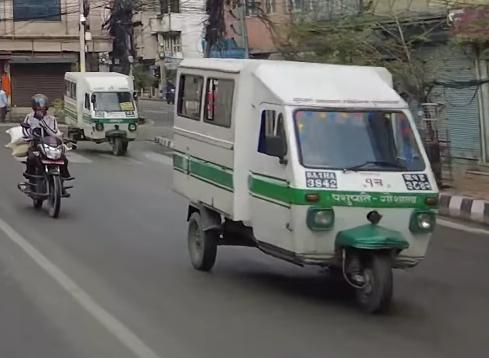bike: (17, 121, 74, 220)
tempo: (171, 58, 445, 315), (59, 70, 147, 159)
